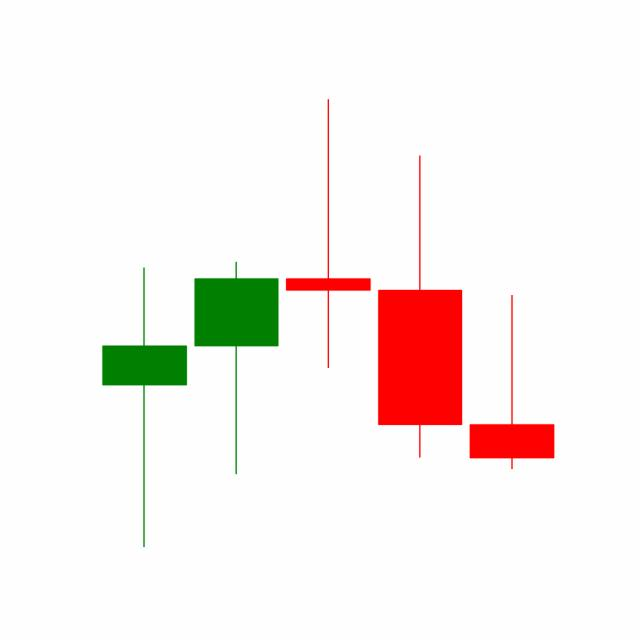Gravestone Doji: (464, 293, 558, 471)
